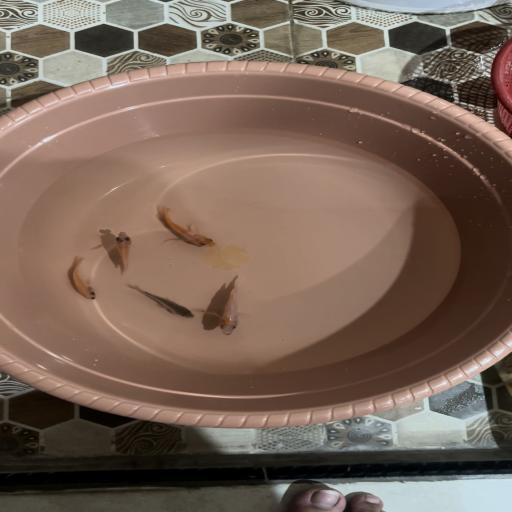nila: (202, 275, 253, 337), (154, 205, 222, 249), (130, 284, 197, 320), (61, 256, 102, 300), (109, 229, 135, 276)
